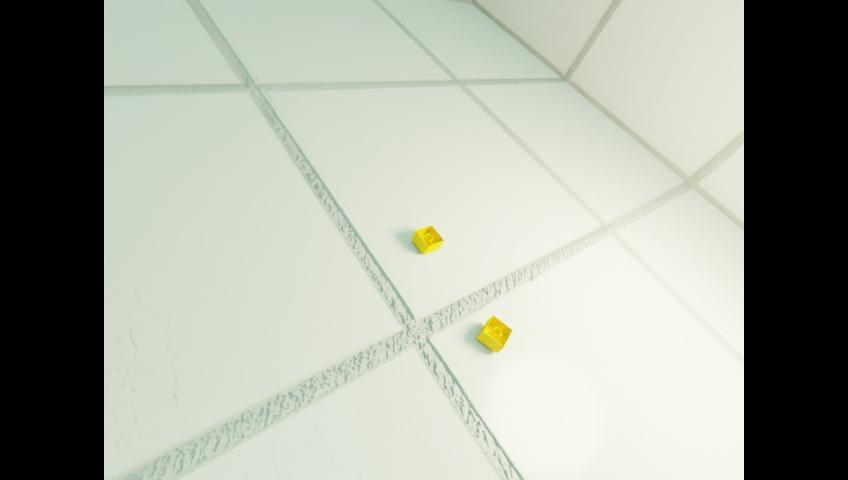2x2_yellow: (477, 314, 512, 353), (411, 224, 443, 254)
